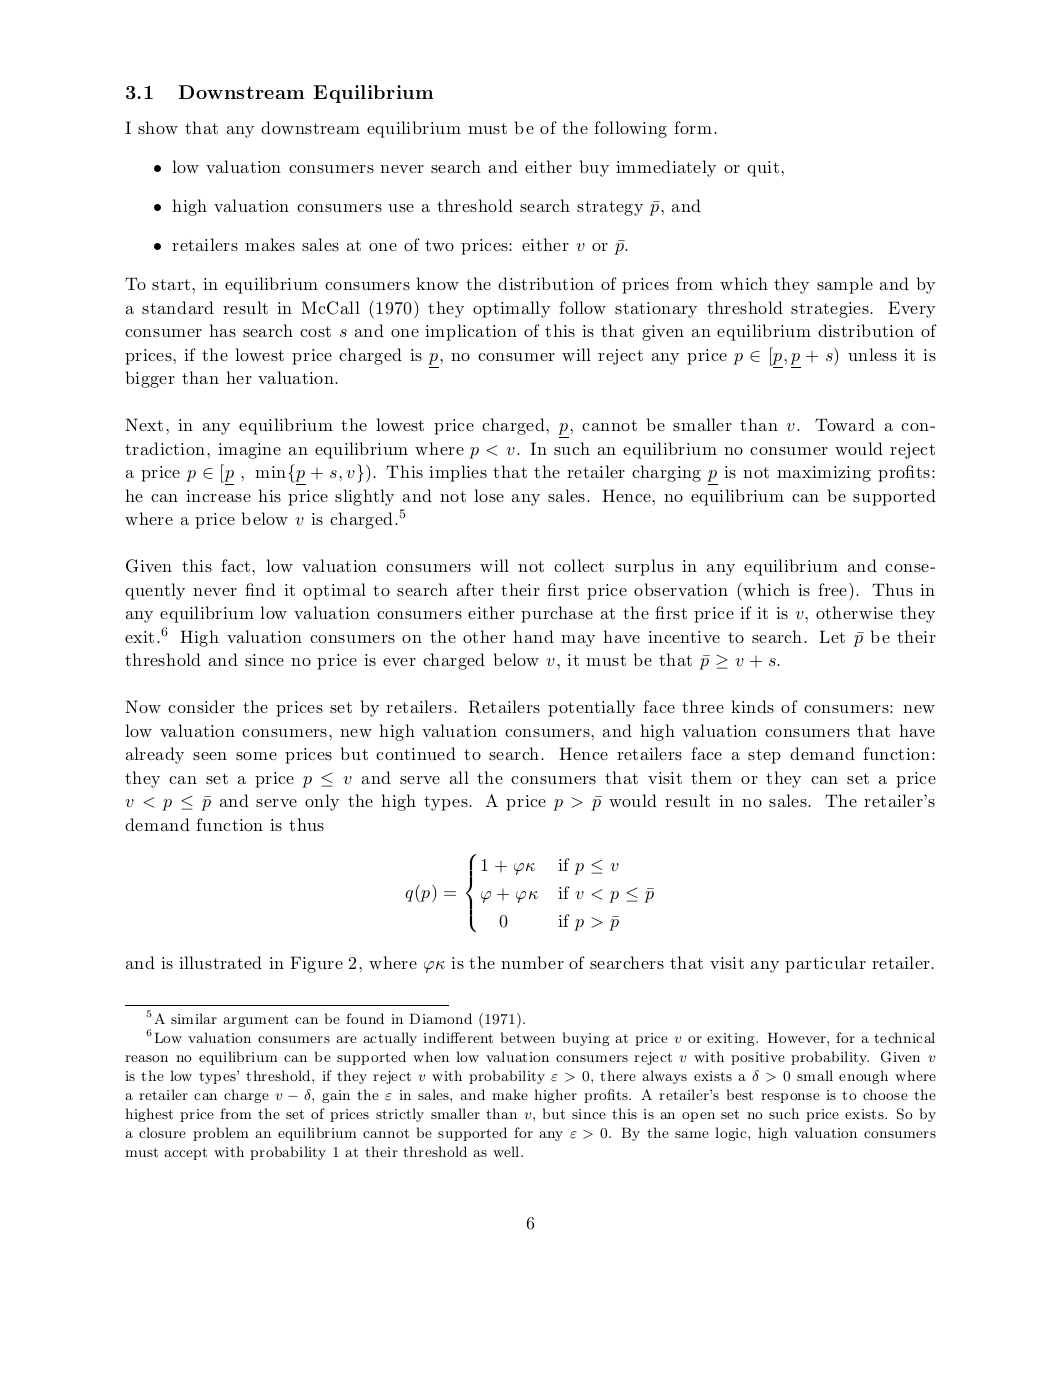formula: (405, 853, 653, 933)
